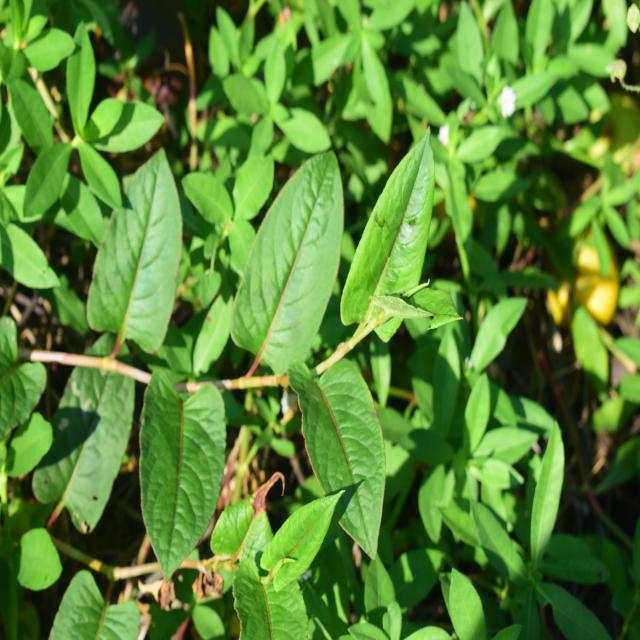Chinese_knotweed: (78, 128, 450, 506)
